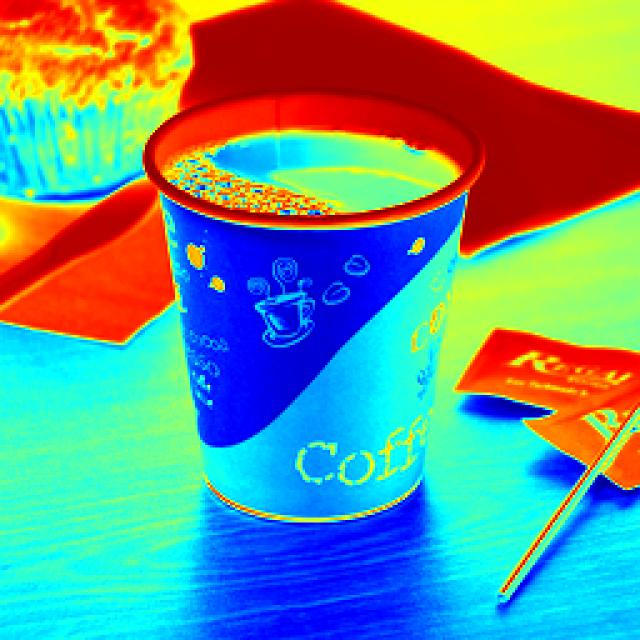Paper Cups: (118, 33, 534, 574)
